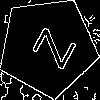Z: (23, 21, 77, 70)
